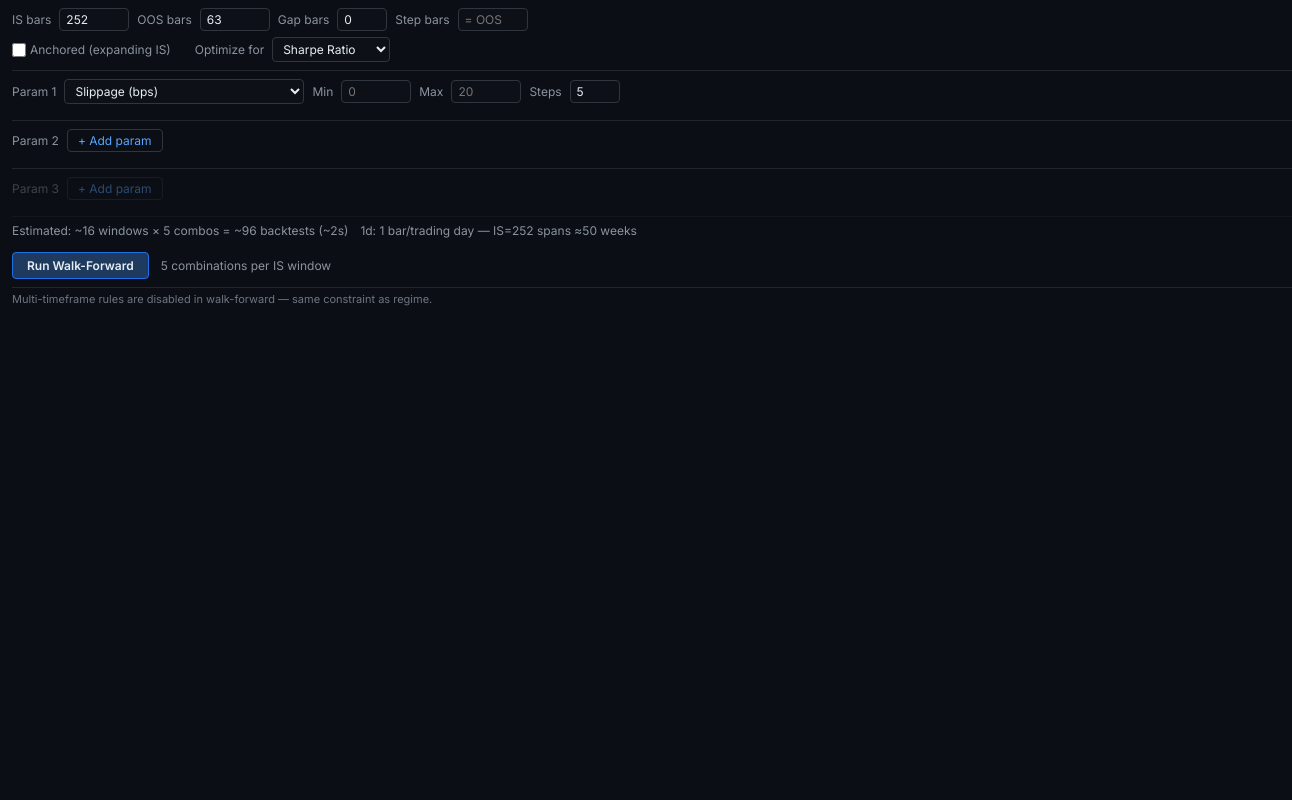
Test case: WalkForwardPanel › shortParamLabel disambiguates two rules with the same indicator+param
Click the button "Run Walk-Forward": x=80, y=266 x1=12 y1=252 x2=149 y2=279
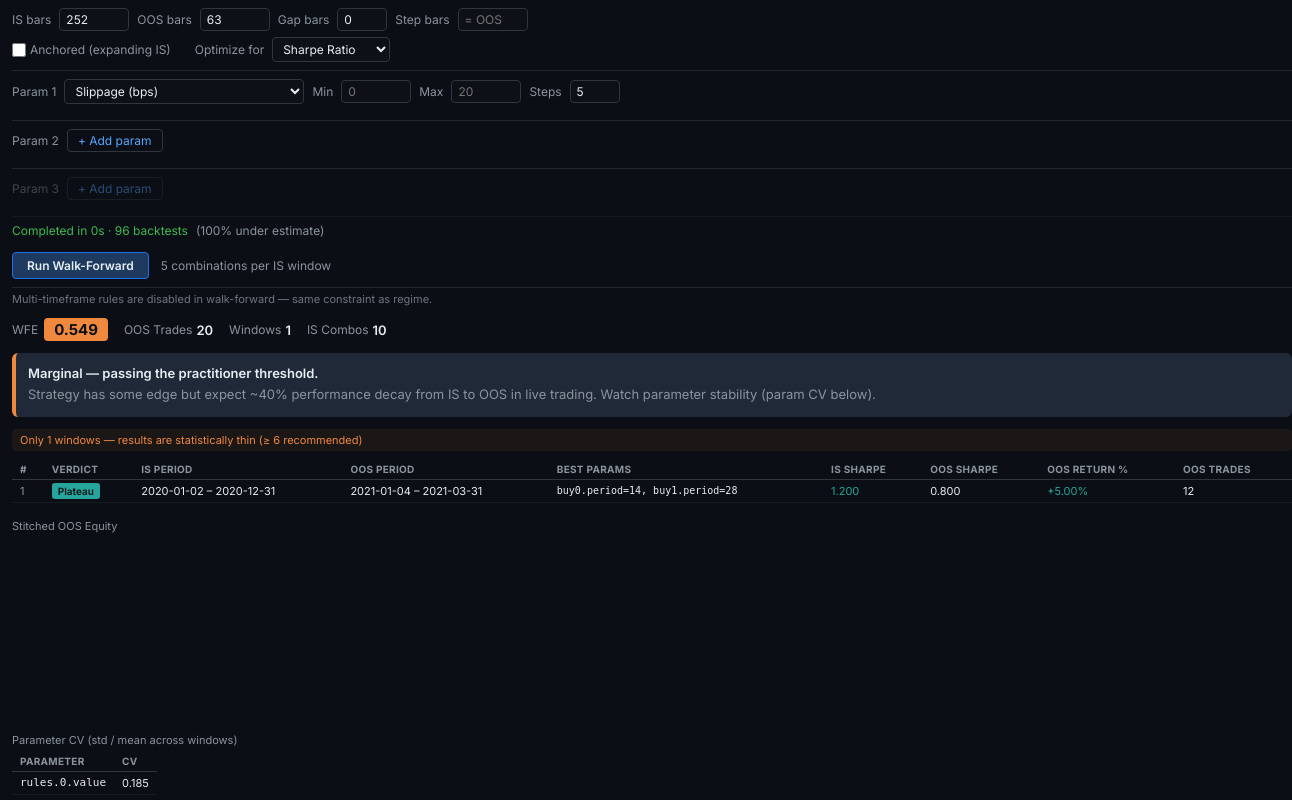
Result: the text "WFE" is shown at x1=12 y1=322 x2=38 y2=337
Result: the text "buy0.period=14, buy1.period=28" is shown at x1=549 y1=479 x2=823 y2=502
